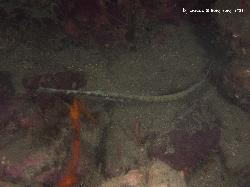Fistularia commersonii: (16, 73, 223, 112)
